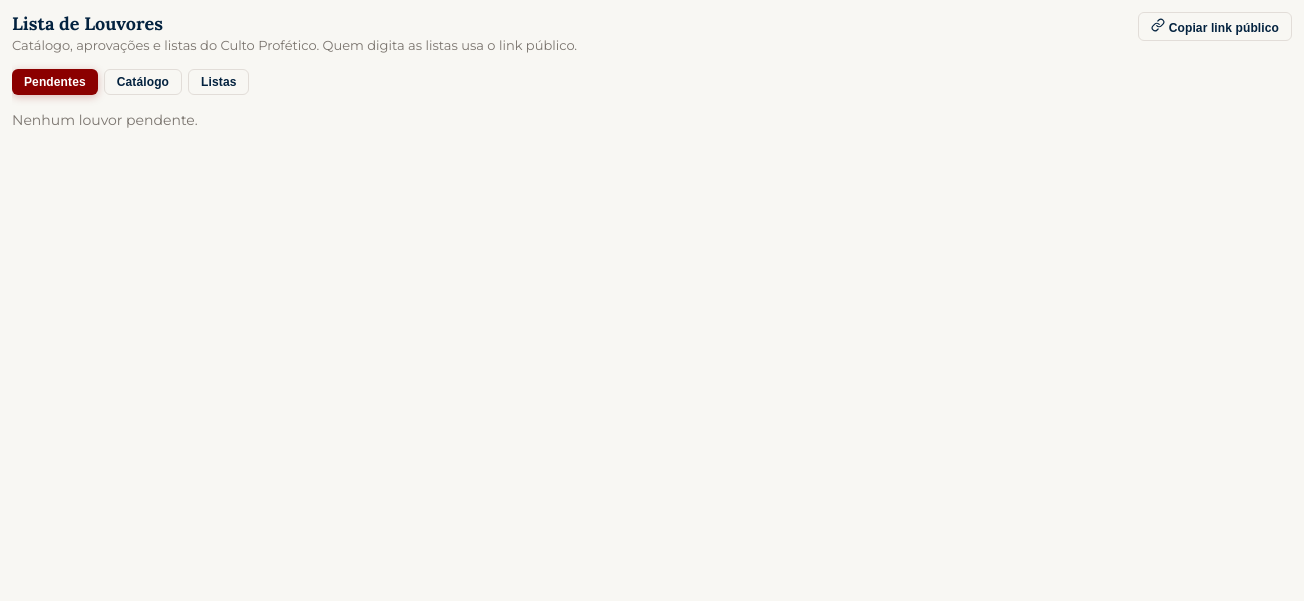
it: Catálogo: totals and category filter › combines the category with the search box
Click the button "Catálogo".
click(143, 82)  # box [104,69,182,95]
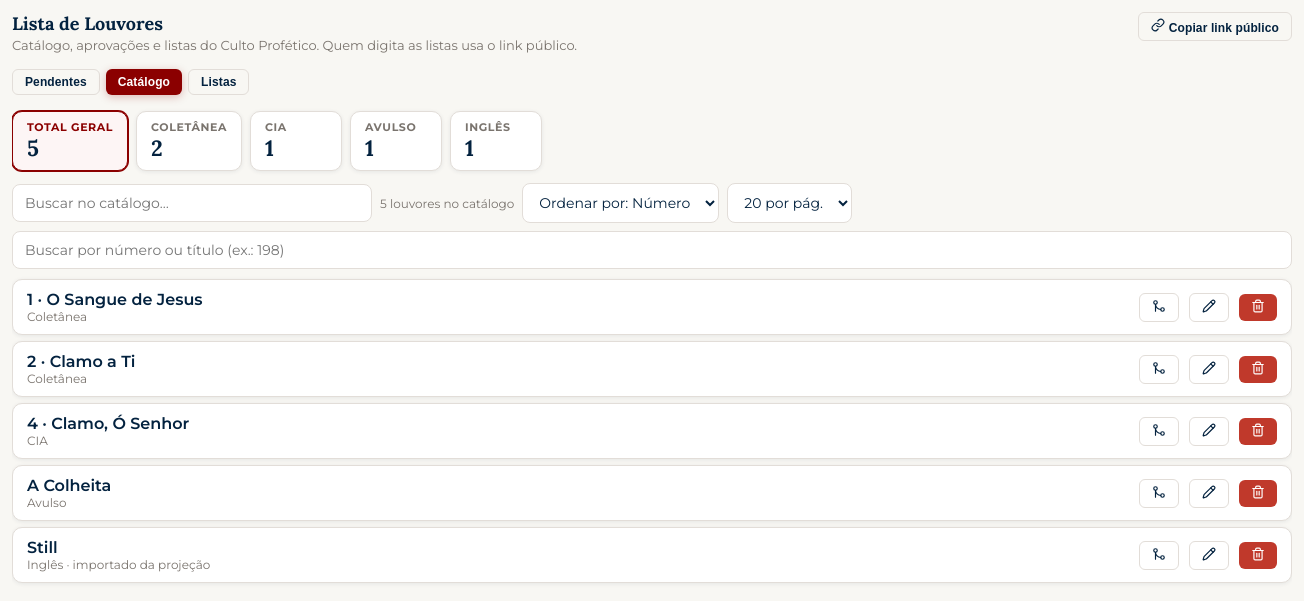
Type "clamo" into the field with placeholder "Buscar no catálogo…".
click(192, 203); type("clamo")  # box [12,184,372,222]
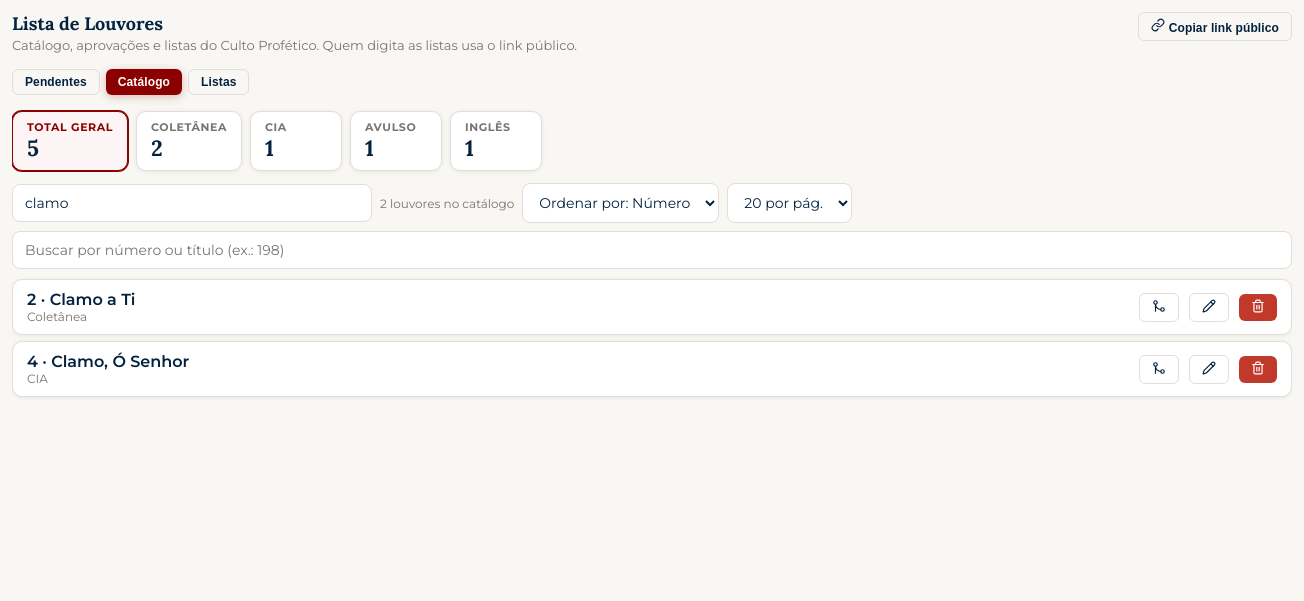
Result: the text "2 louvores no catálogo" is shown at [380,196,514,210]
Click the button "Coletânea 2".
click(189, 141)  # box [136,111,242,171]
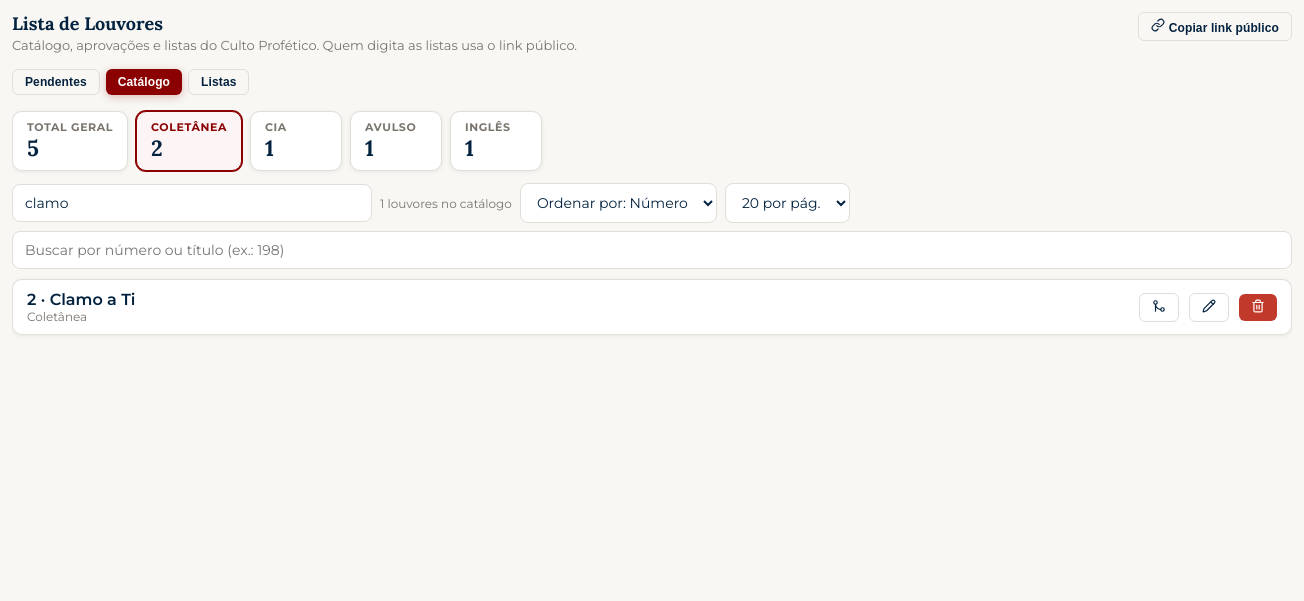
Result: the text "2 · Clamo a Ti" is shown at [27,290,136,309]
Result: the text "1 louvores no catálogo" is shown at [380,196,512,210]
